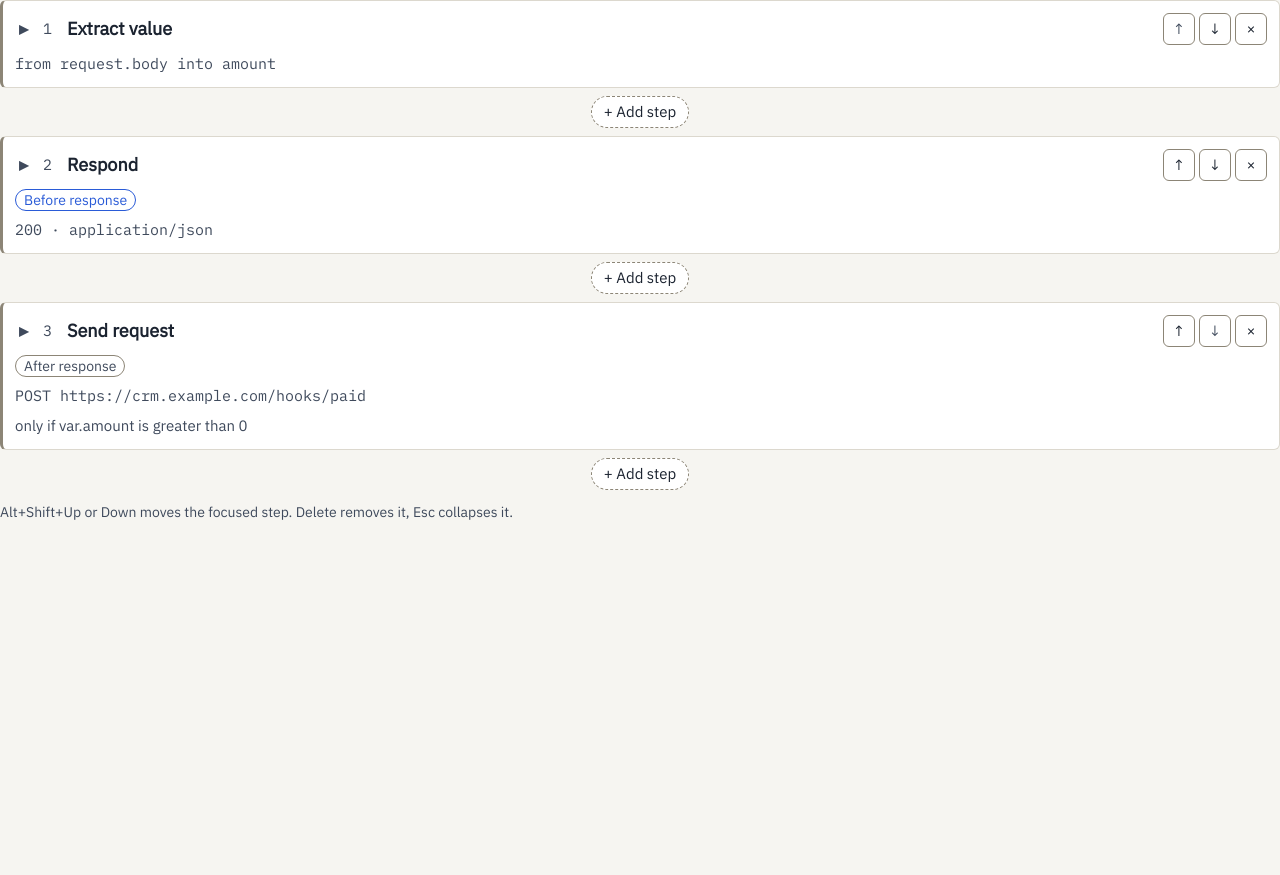
Scenario: StepList cards › expands from the heading button and shows the fields and the Produces line
Step 1. Click the button "▸ 1 Extract value" → (120, 28), box [15, 13, 1155, 45]
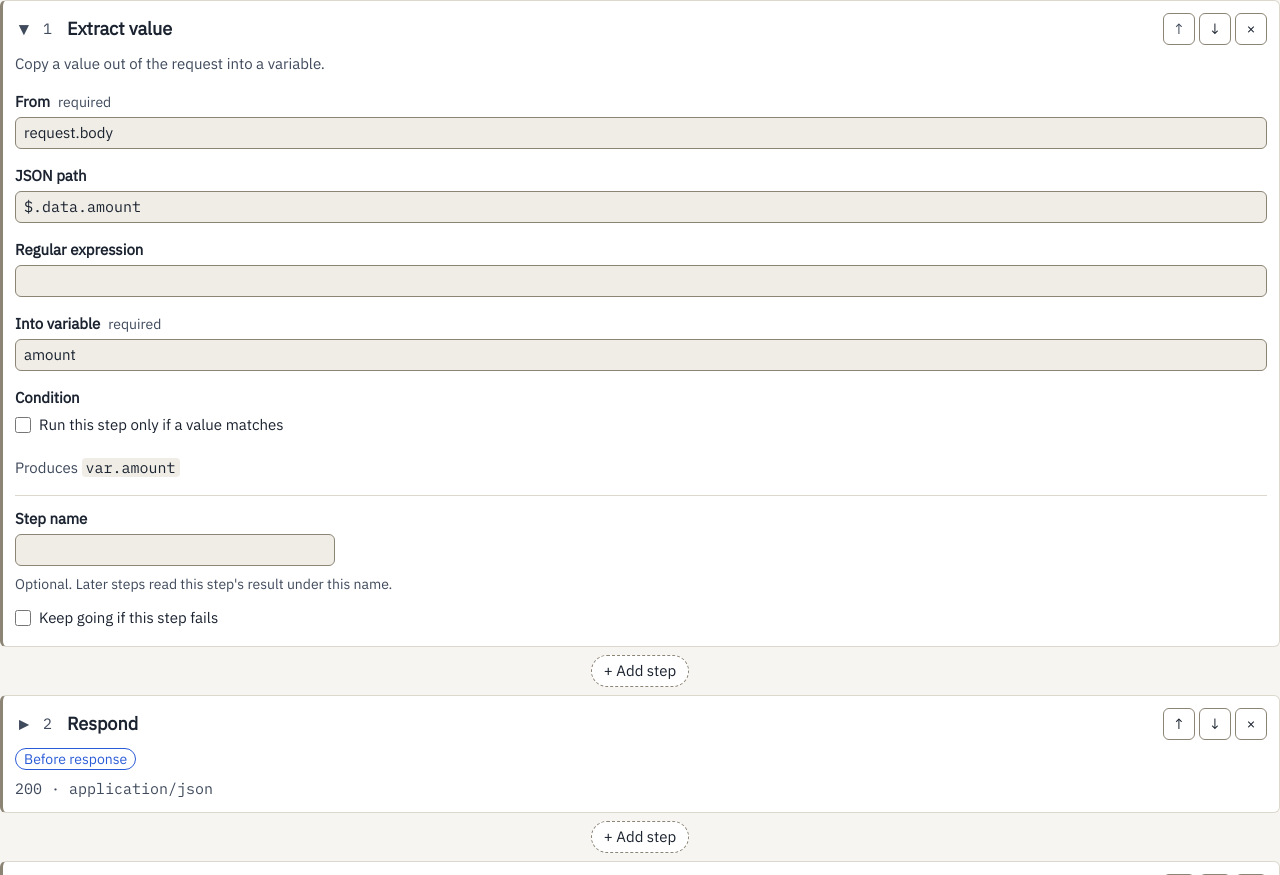
Result: the button "▾ 1 Extract value" is expanded at [15, 13, 1155, 45]
Result: the field labelled "From" is shown at [15, 117, 1267, 149]
Result: the text "Produces" is shown at [15, 458, 78, 477]
